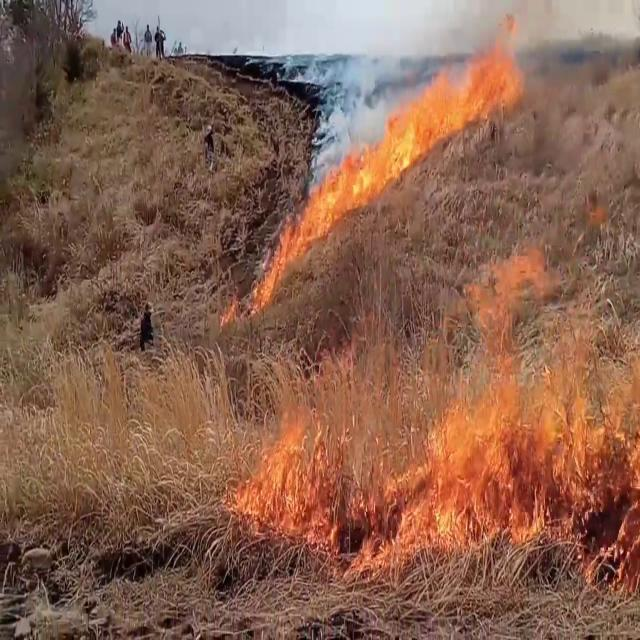Fire: (417, 235, 640, 546), (232, 379, 412, 592), (362, 19, 524, 194), (251, 164, 357, 304)
